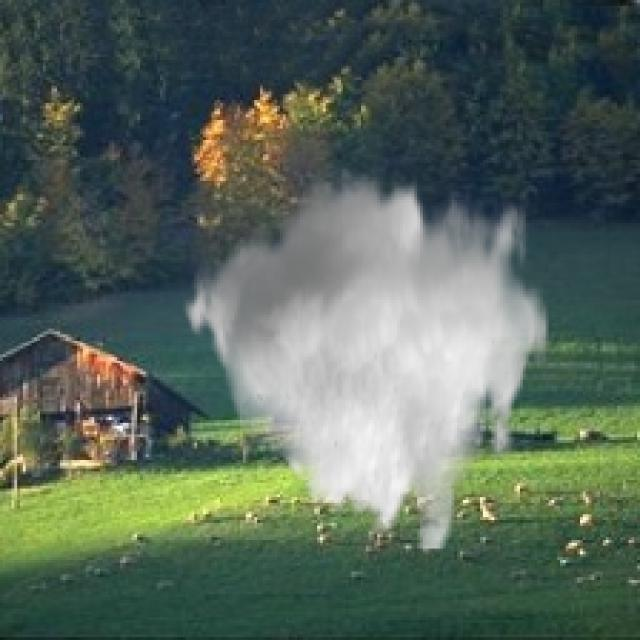Smoke: (177, 168, 549, 552)
